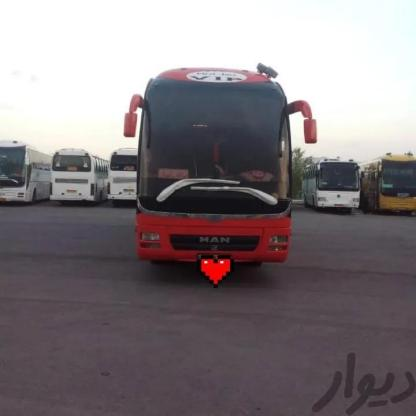Bus: (138, 53, 298, 274), (0, 138, 51, 212), (304, 162, 366, 219), (45, 149, 99, 212), (371, 146, 416, 219), (100, 142, 144, 208)
